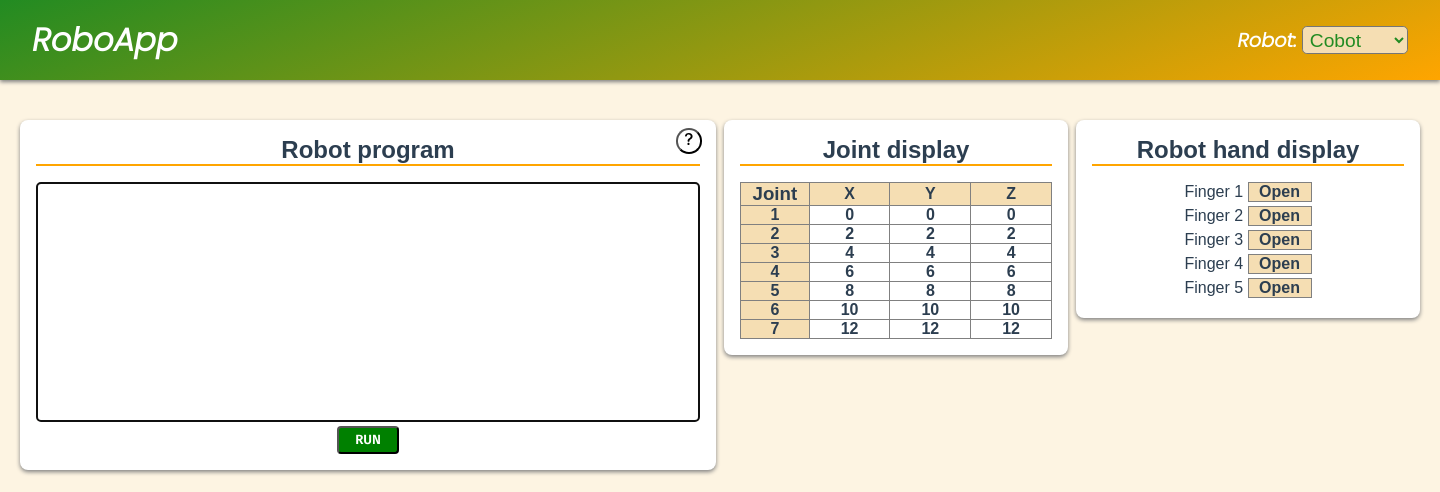
Test: RoboApp test suite › Movement › When joint moved, should update corresponding coordinates
Type "move 3 x66 y77 z88" into the text box at (368, 302), box [36,182,700,422]
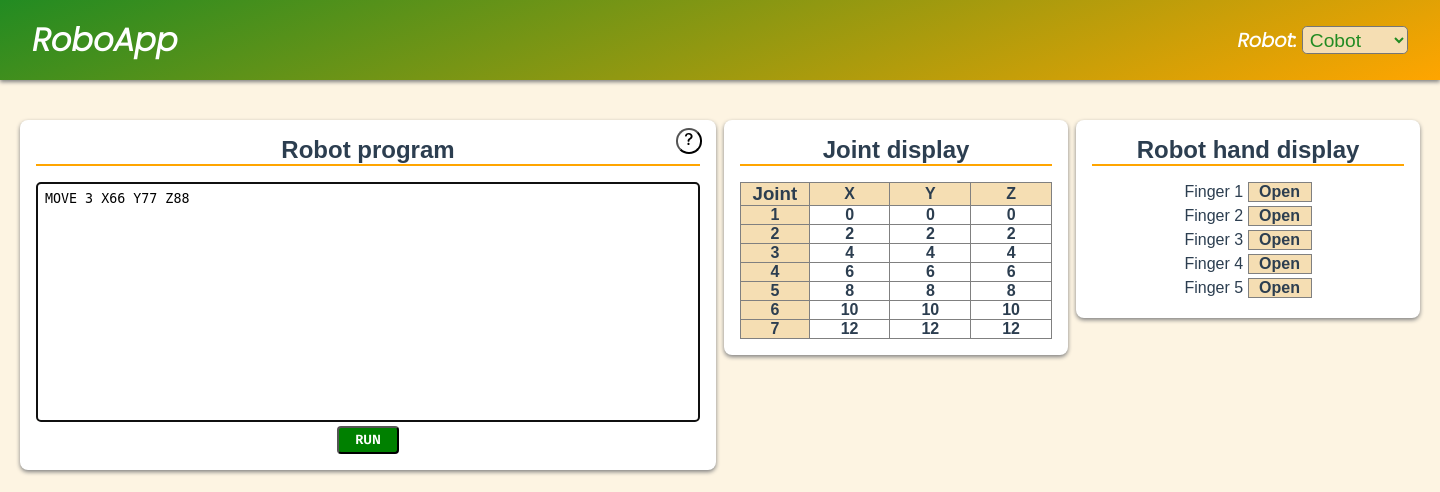
Click the button "Run" at (368, 440), box [337,426,399,454]
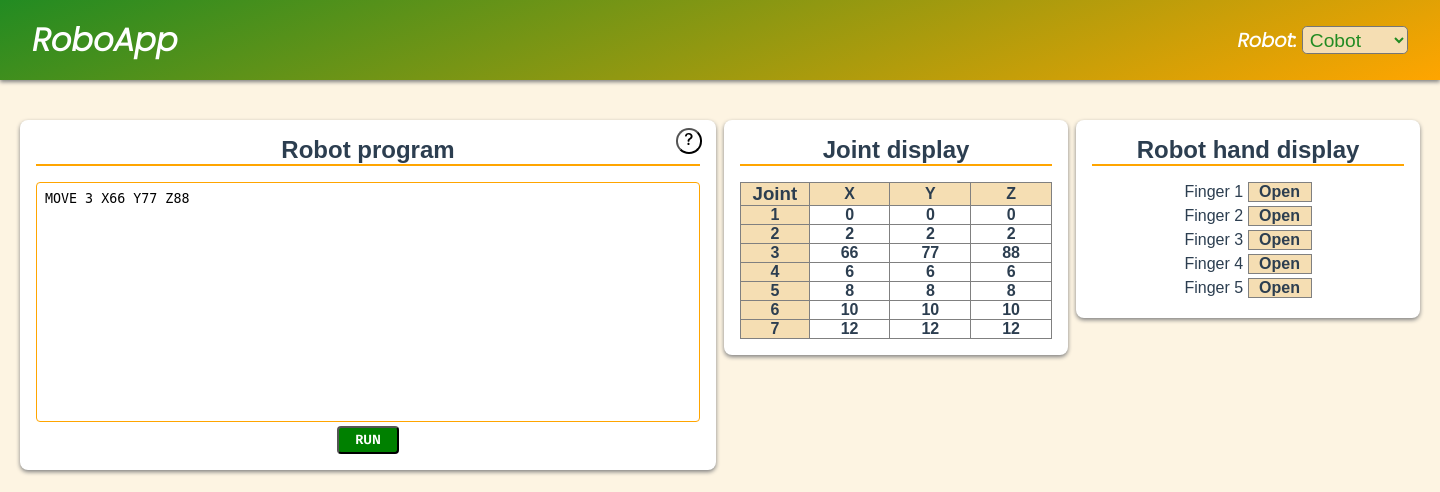
Result: the cell "66" is shown at [809,244,890,262]
Result: the cell "77" is shown at [890,244,971,262]
Result: the cell "88" is shown at [971,244,1052,262]
